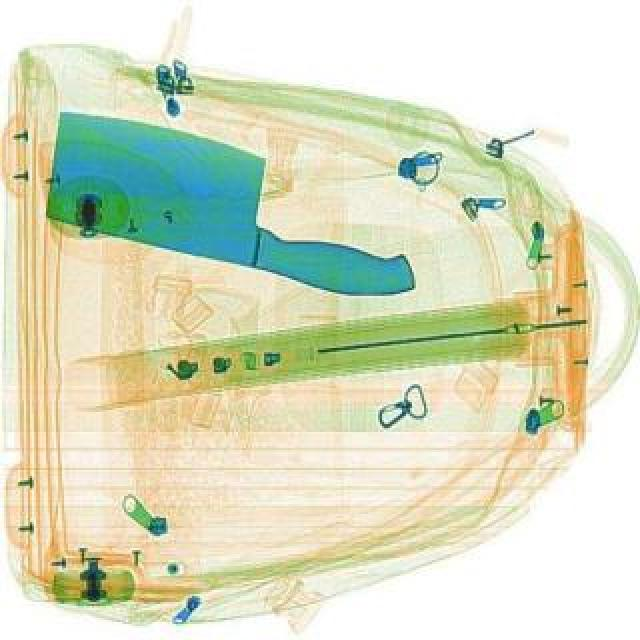knife: (16, 86, 444, 338)
